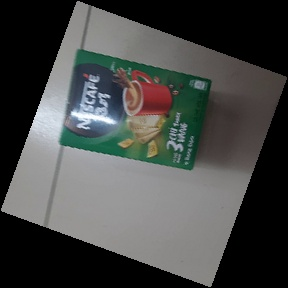Nes Rang: (55, 47, 212, 174)
